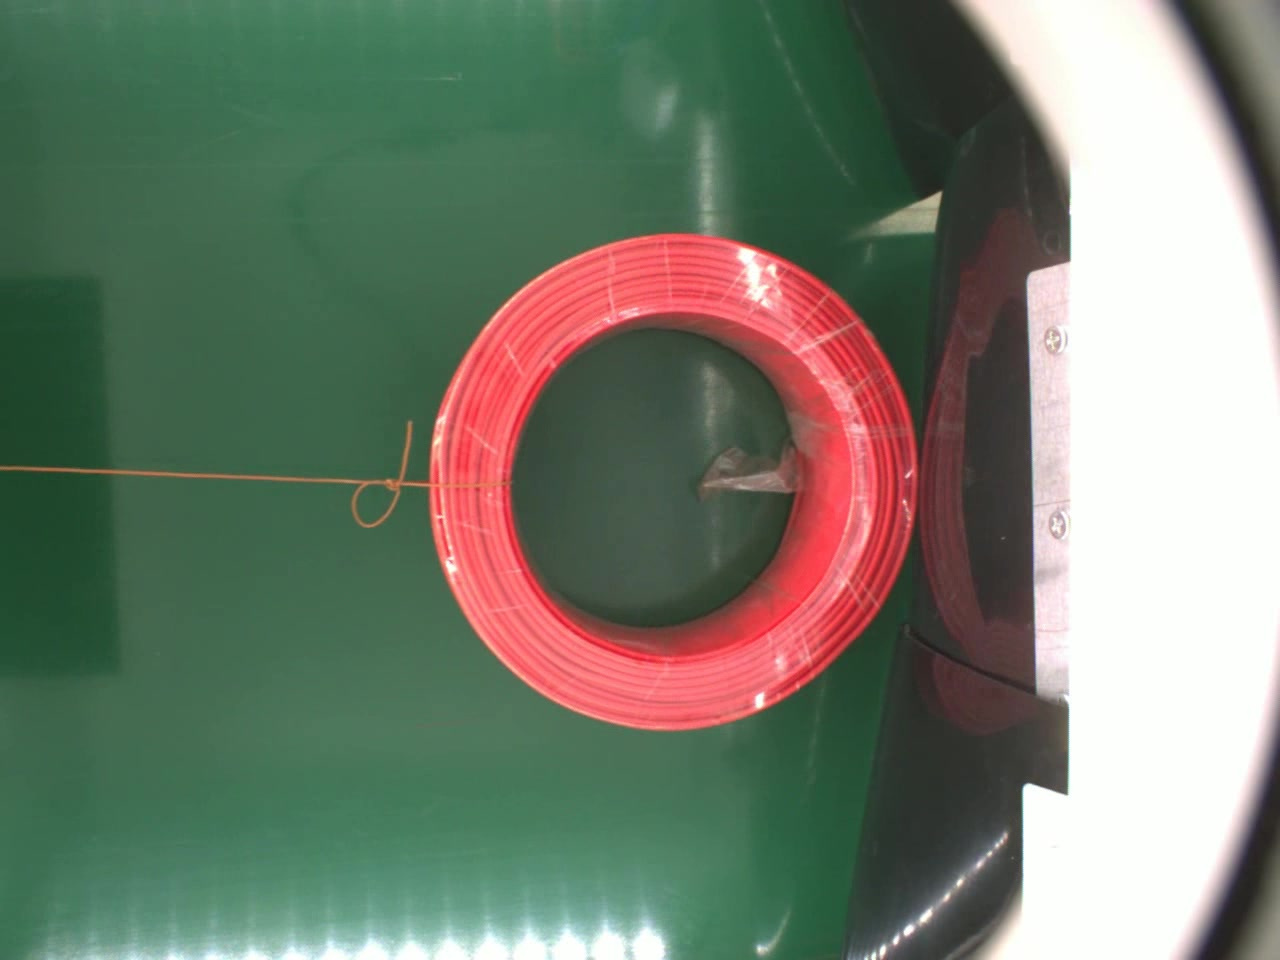red: (428, 229, 919, 733)
